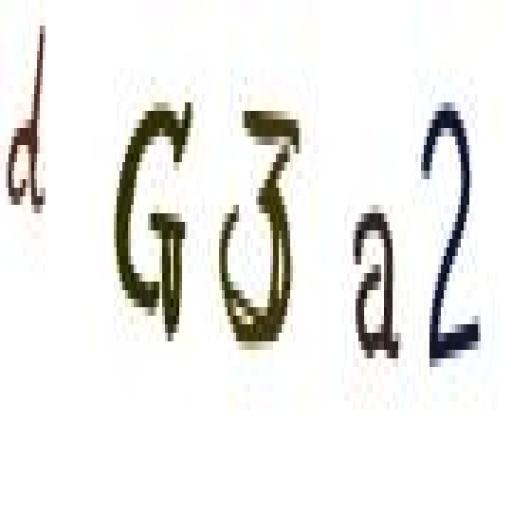2: (414, 93, 489, 377)
3: (216, 91, 302, 359)
G: (110, 77, 198, 350)
a: (349, 204, 403, 378)
d: (4, 9, 51, 245)
